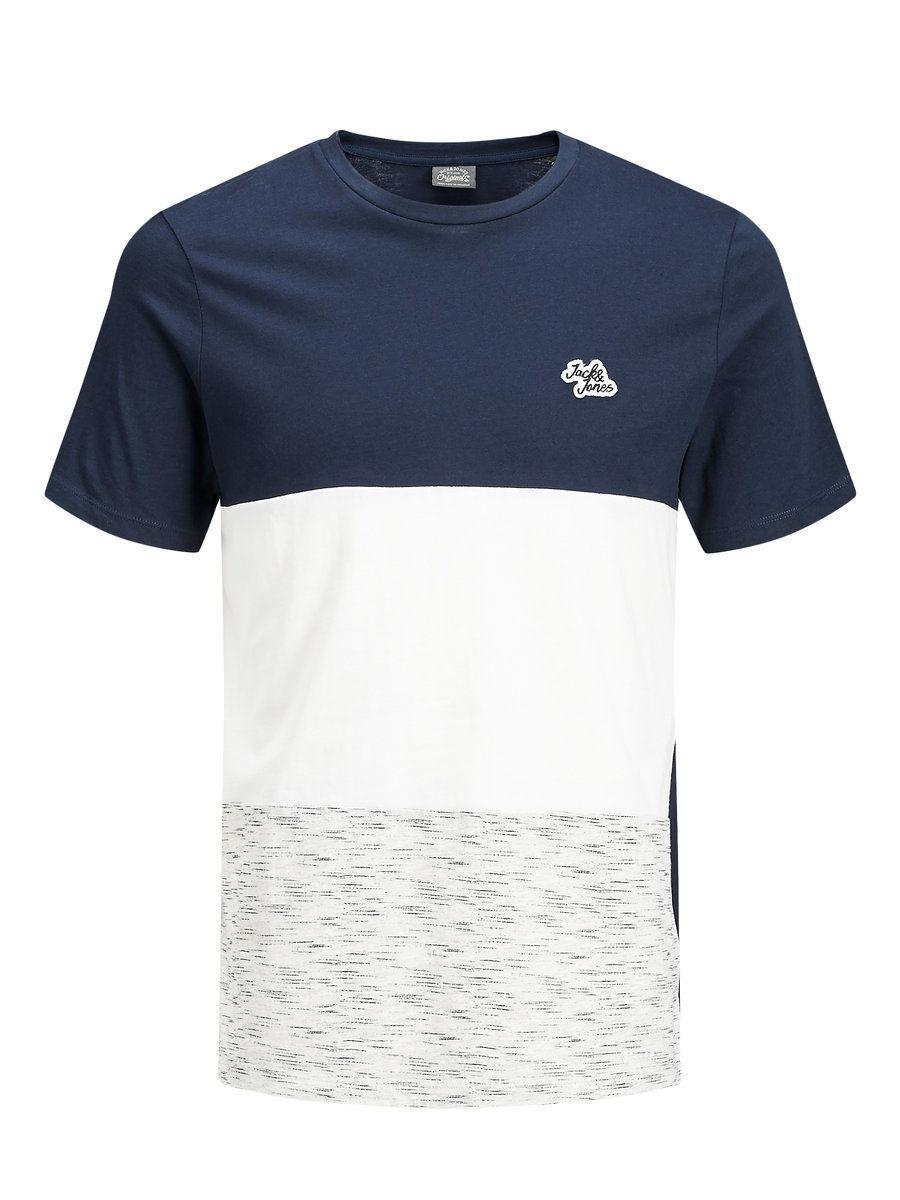teeshirt: (43, 107, 882, 1149)
